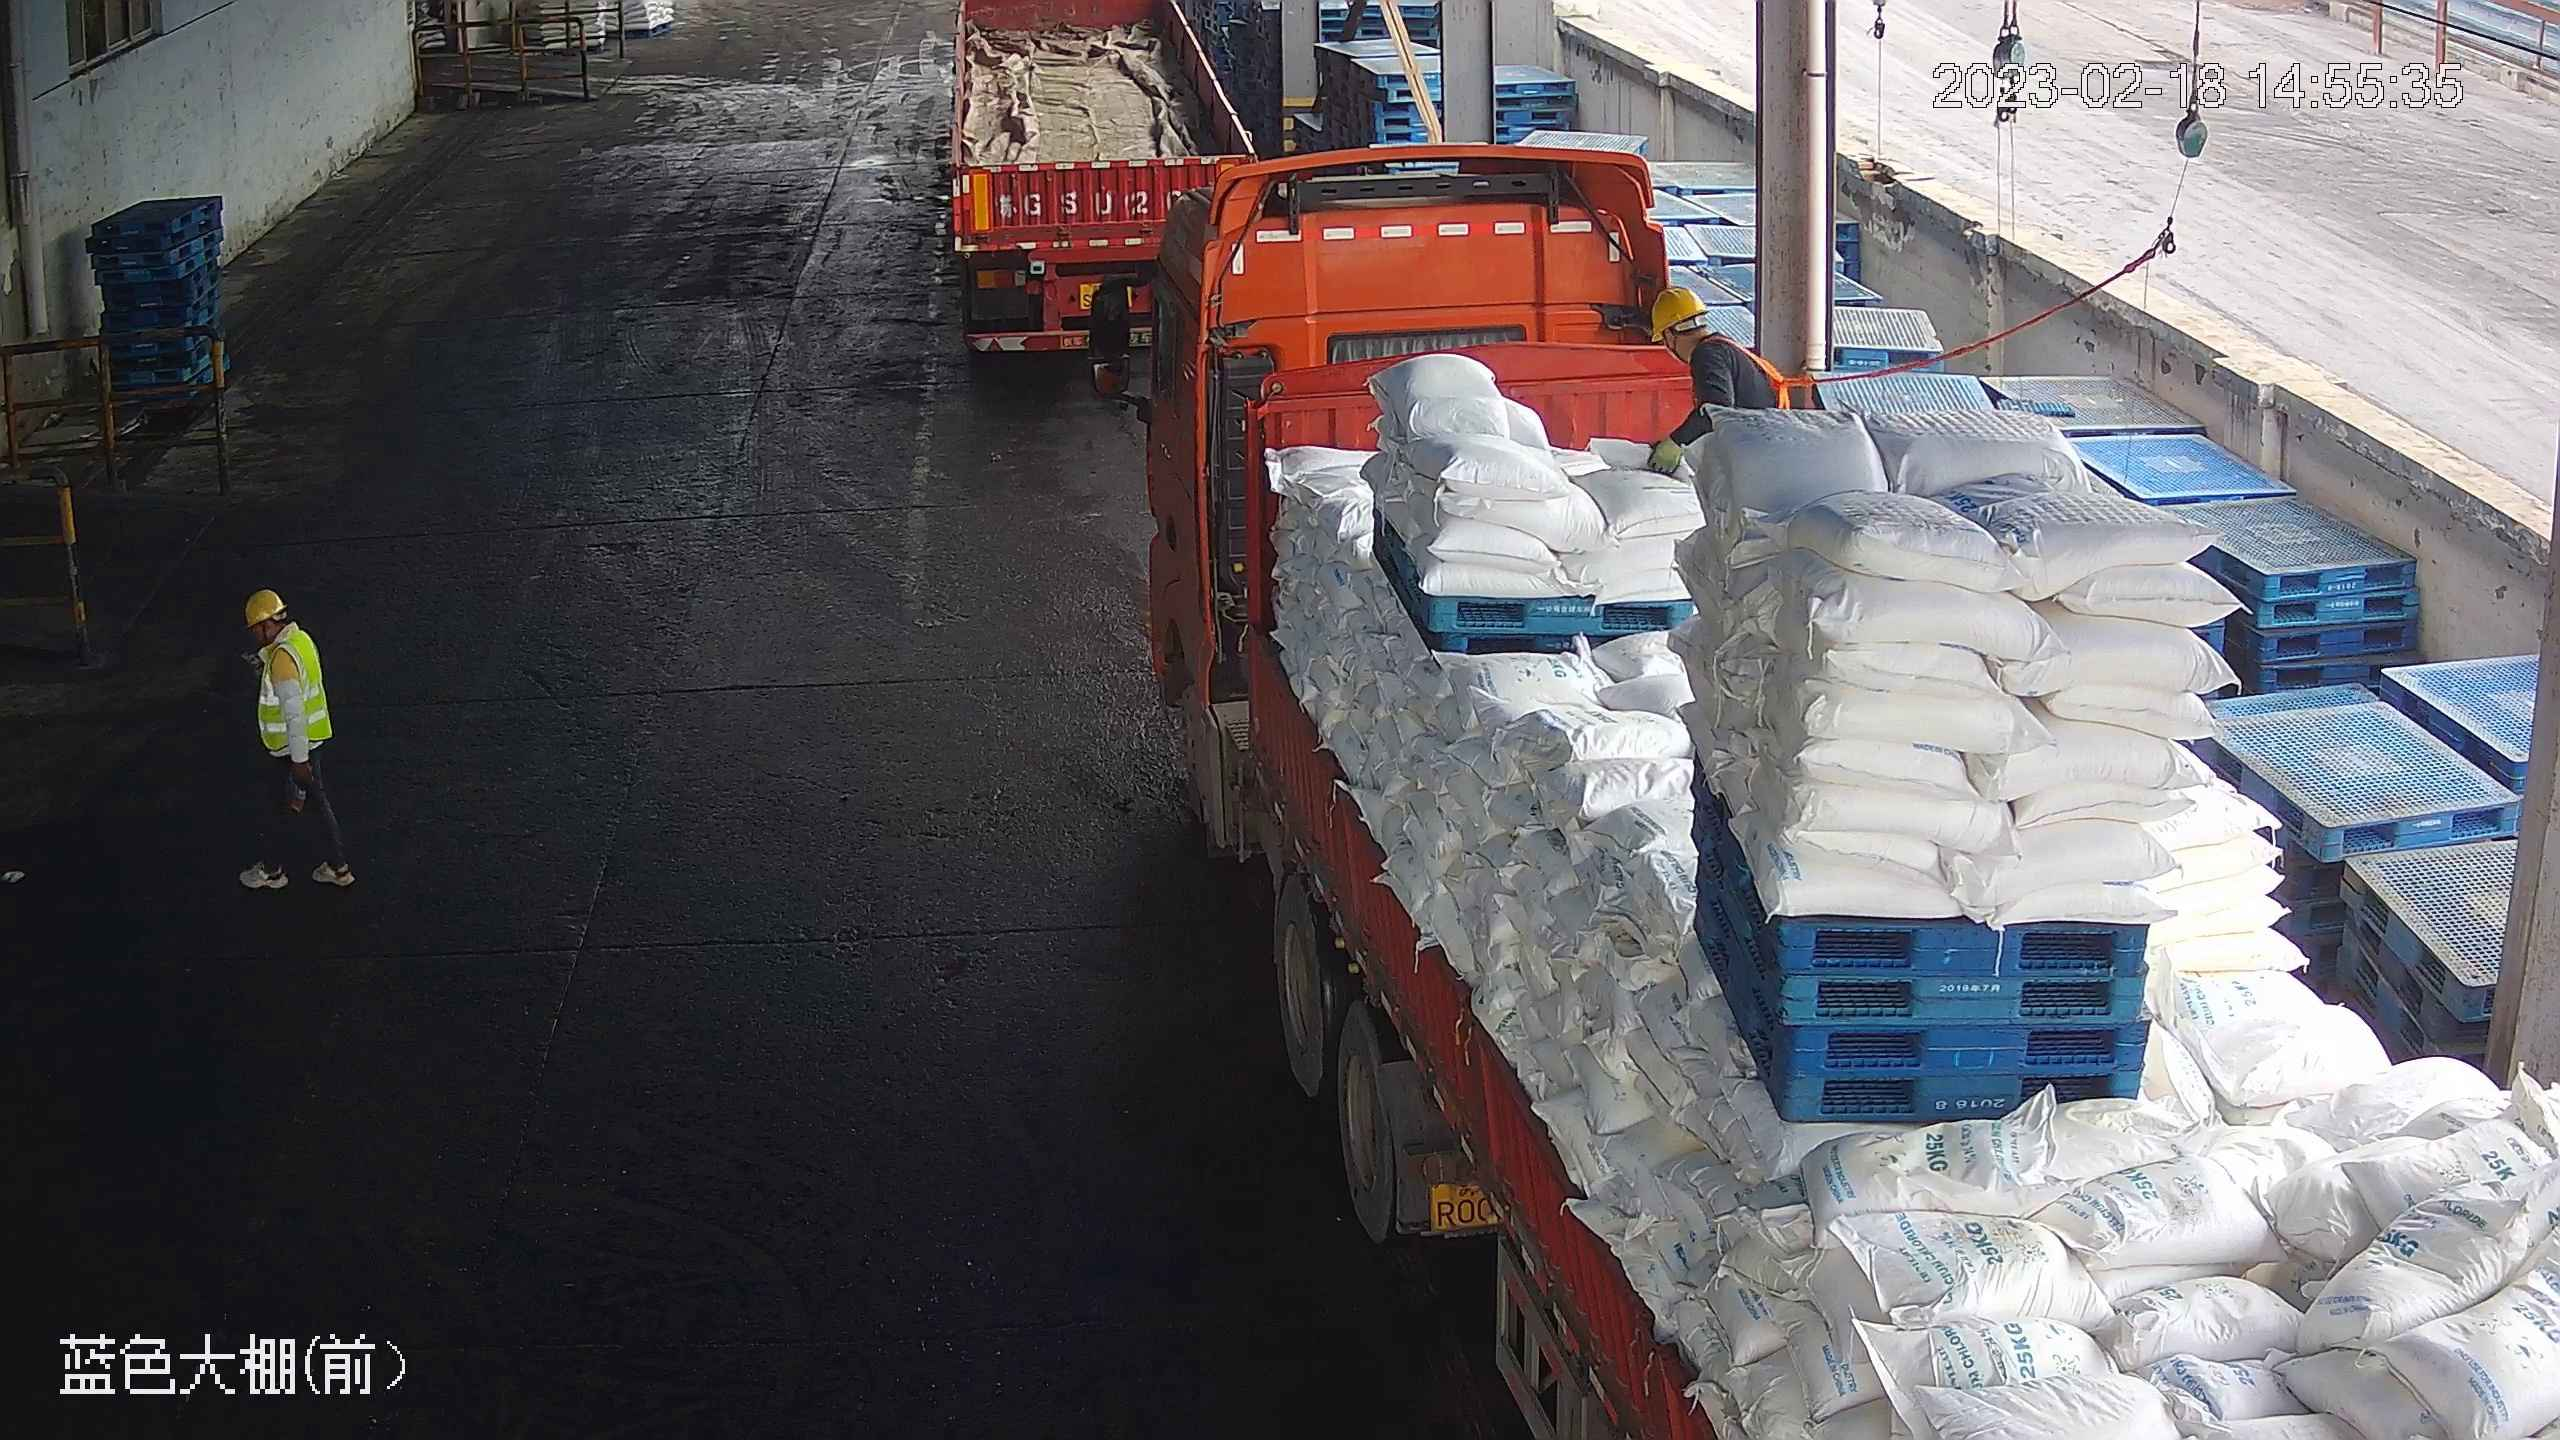belt: (1706, 333, 1796, 413)
head: (1645, 284, 1764, 376), (236, 590, 320, 678)
helmet: (1644, 285, 1707, 340), (237, 587, 285, 626)
people: (230, 585, 359, 897)
truck: (1166, 165, 2555, 1440), (927, 1, 1266, 361)
